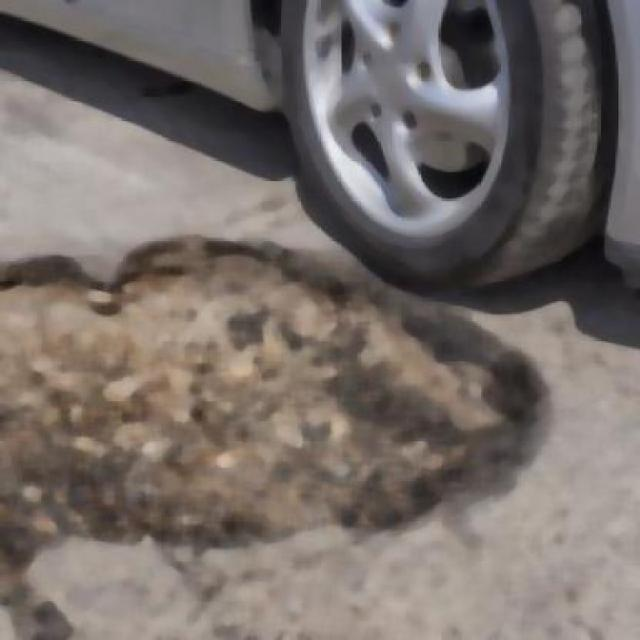Pothole: (0, 237, 528, 546)
